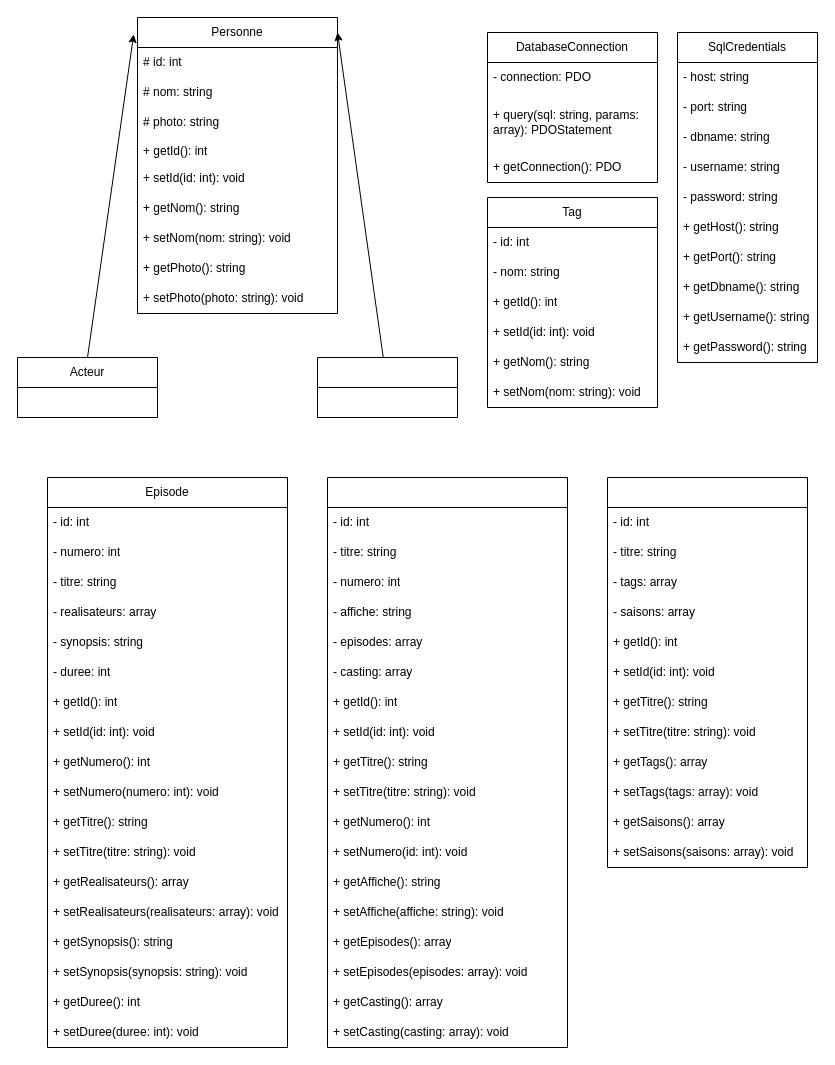
The diagram is 835 pixels wide and 1065 high, and some of its shapes have lost their labels. The box of each missing label's shape, as (x1, y1, x2, y2) in pixels:
Réalisateur: (316, 356, 458, 418)
Saison: (326, 476, 568, 1048)
Serie: (606, 476, 808, 868)
